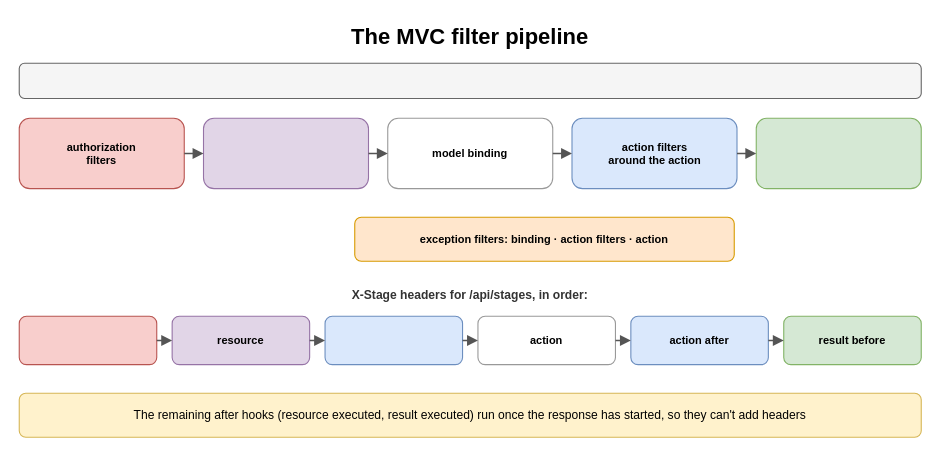
The diagram is 941 pixels wide and 457 high, and some of its shapes have lost their labels. The shapes that lost their labels are listed below. From the top down, each one's centre as x and y in pixels, then its label:
At point (469, 80): "Filters run at fixed stages around an action, after routing chose the endpoint".
At point (285, 153): "resource filters (wrap model binding)".
At point (838, 153): "result filters around the result".
At point (87, 340): "authorization".
At point (393, 340): "action before".
